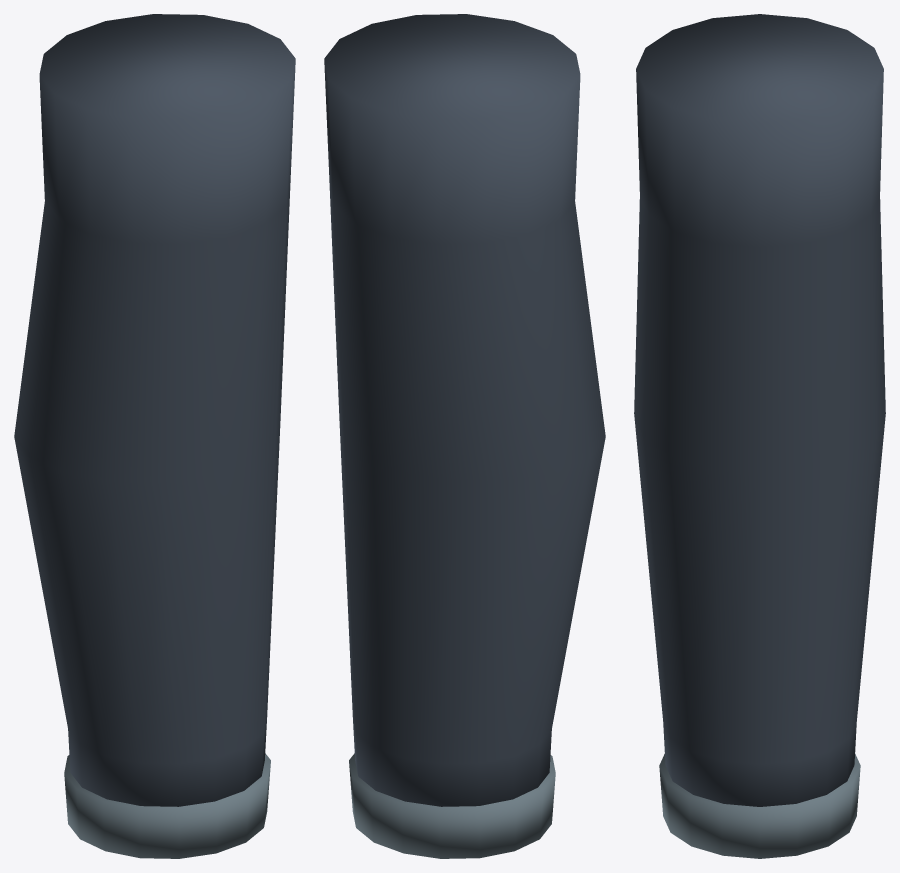
File: SM_Hider_Shin.glb
3 renders of one model, left to right at view 1: azimuth 30°, elevation 25°; view 2: azimuth 150°, elevation 25°; view 3: azimuth 270°, elevation 25°, orthographic.
Visible parts, largest first — view 1: SM_Hider_Shin; view 2: SM_Hider_Shin; view 3: SM_Hider_Shin.
Part boxes in pixels (x1,y1,x2,y2): SM_Hider_Shin: (14,14,295,858); SM_Hider_Shin: (324,14,605,858); SM_Hider_Shin: (634,14,885,858).
Bounding box in the file's own units: 0.149 × 0.426 × 0.13.
